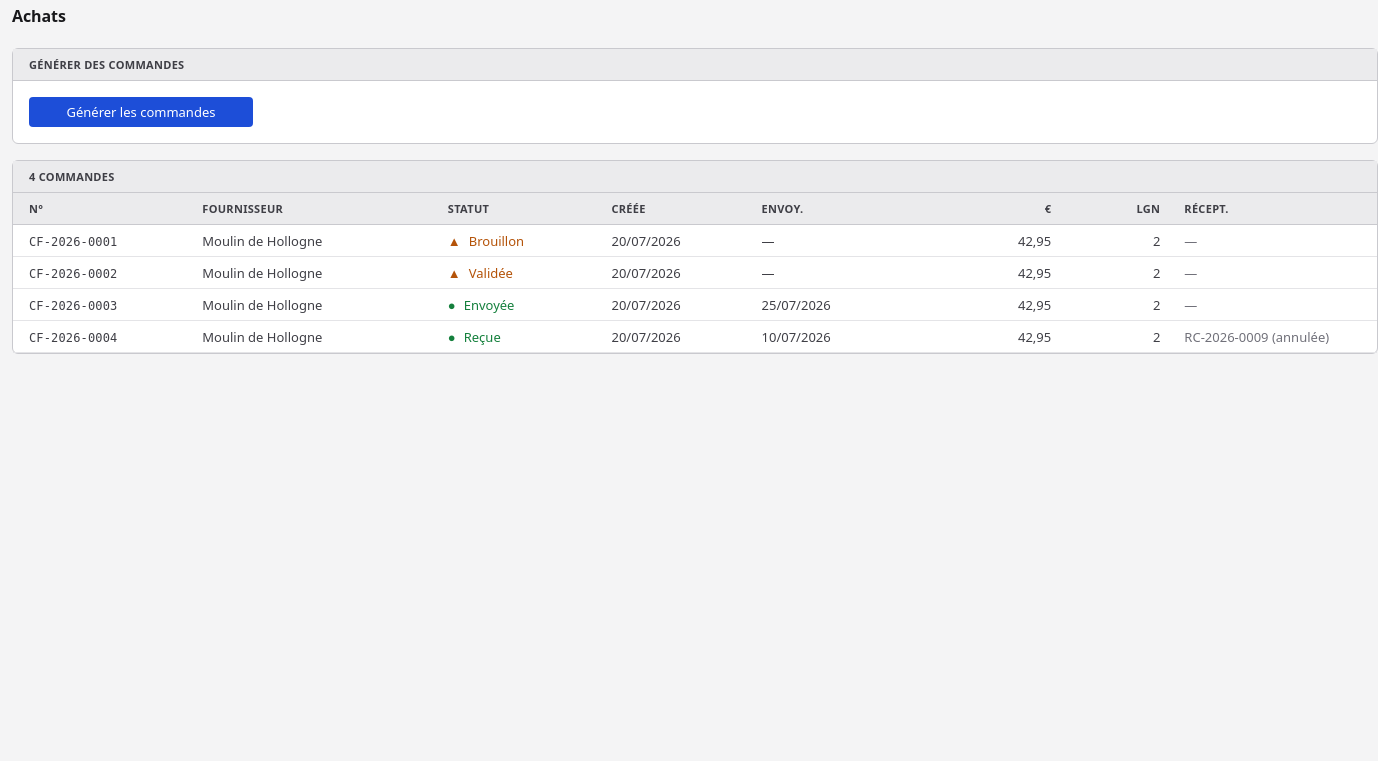
Scenario: Achats — D-009 : générer, valider, envoyer, dans cet ordre et pas un autre › une commande VALIDÉE offre l’envoi, et le bouton reste inerte tant qu’aucune adresse n’est saisie
Click the row "CF-2026-0002".
click(695, 273)  # box left=13, top=257, right=1377, bottom=289
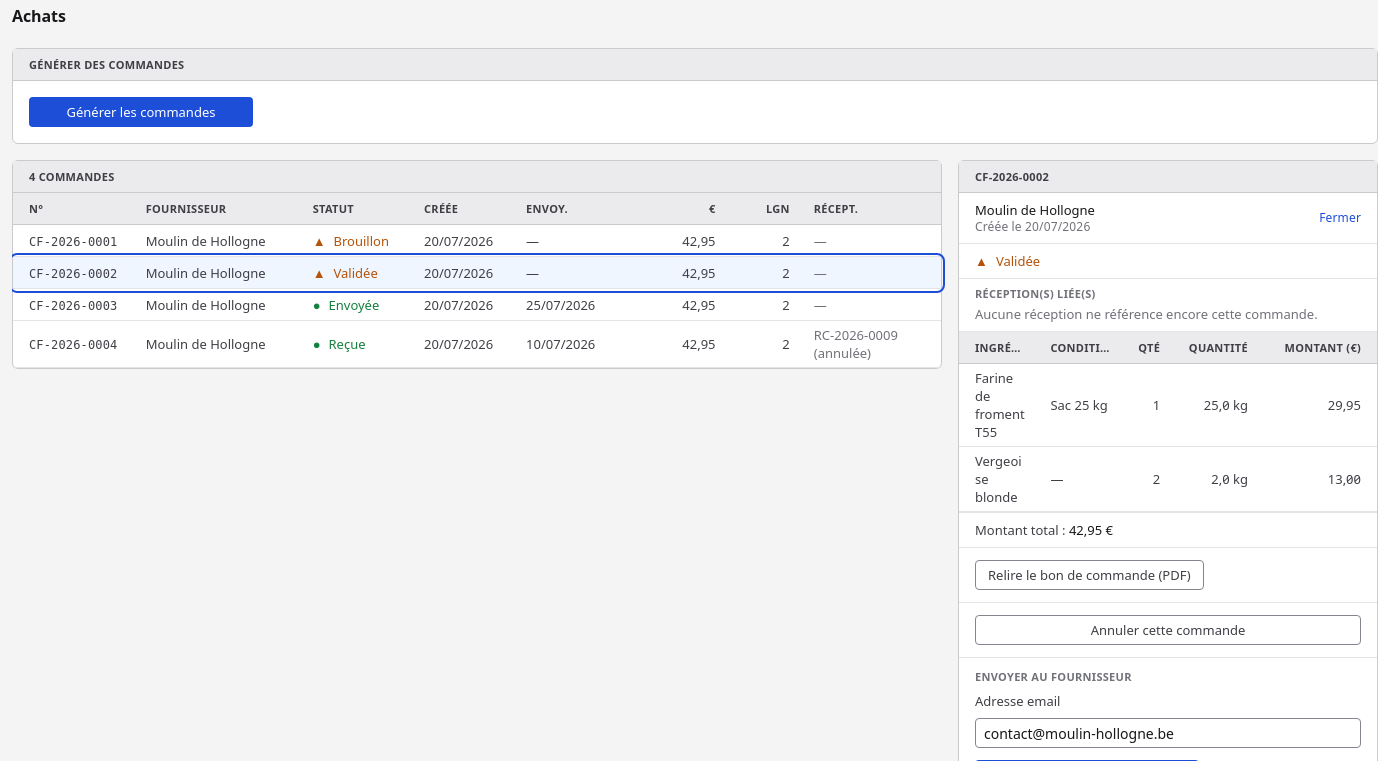
Expected: the heading "CF-2026-0002" is shown, left=959, top=161, right=1377, bottom=193
Expected: the field labelled "Adresse email" holds "contact@moulin-hollogne.be"
Clear the field labelled "Adresse email" at (1168, 733), box left=975, top=718, right=1361, bottom=748
(page scrolled)
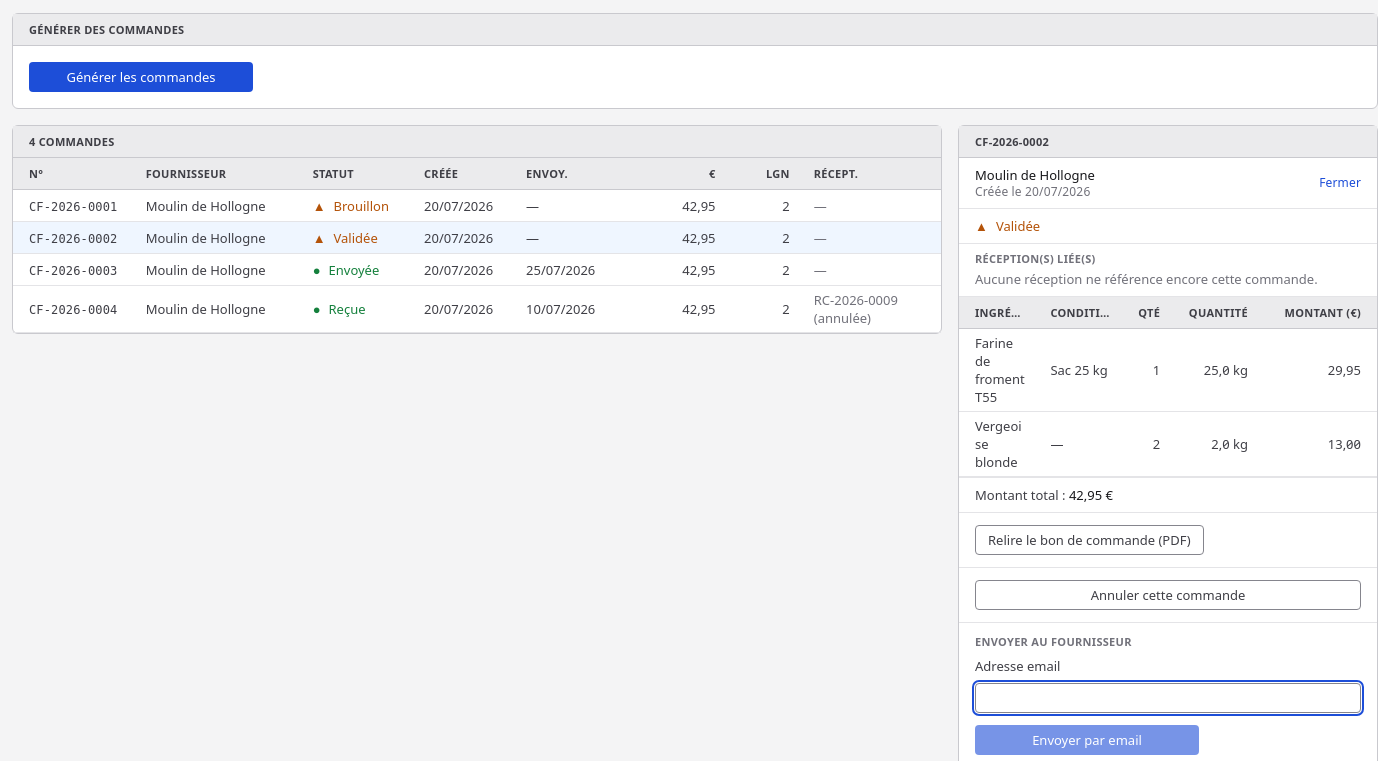
Expected: the button "Envoyer par email" is disabled, left=975, top=725, right=1199, bottom=755
